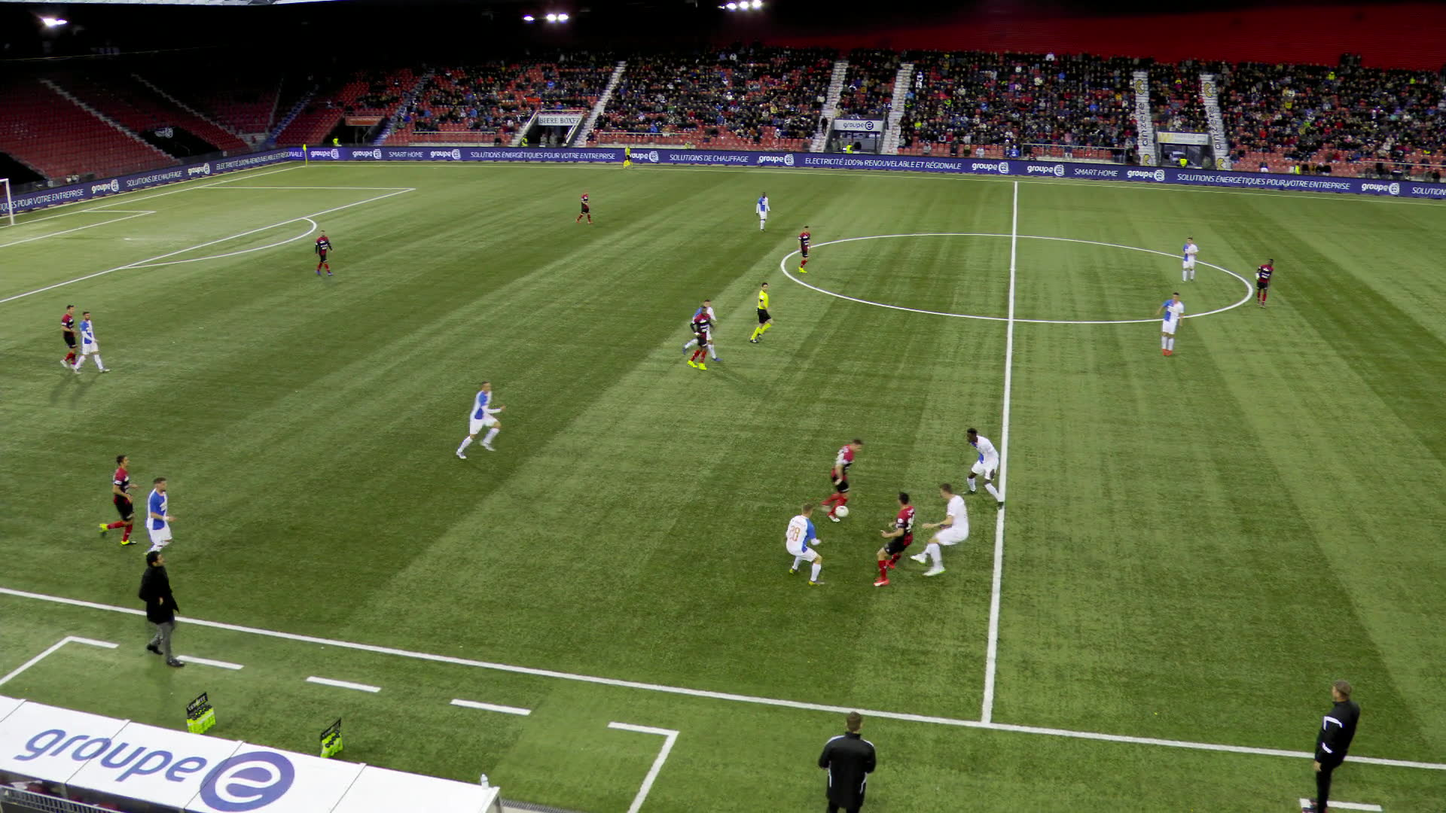ball: (834, 505, 849, 517)
player: (909, 482, 969, 577), (871, 490, 915, 586), (455, 379, 505, 460), (960, 426, 1005, 510), (819, 437, 863, 522), (99, 454, 140, 545), (782, 502, 826, 586), (142, 476, 177, 559), (683, 298, 723, 363), (72, 309, 109, 374), (1153, 291, 1184, 356), (685, 305, 715, 370), (59, 303, 81, 370), (1254, 257, 1274, 307), (313, 229, 334, 276), (1179, 236, 1198, 284), (796, 224, 811, 274), (574, 188, 593, 224), (755, 190, 770, 233)
referee: (748, 282, 774, 343), (623, 143, 635, 169)
